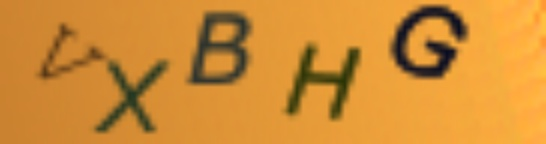B: (184, 7, 257, 90)
G: (387, 3, 470, 82)
H: (278, 43, 367, 122)
V: (37, 19, 103, 85)
X: (93, 55, 174, 139)
